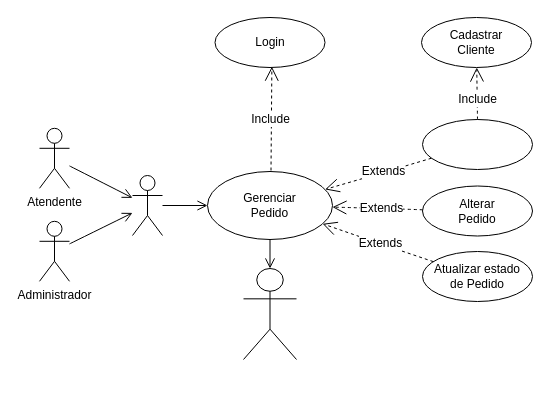
Image size: 550x398. Some labels were removed from this diagram. The centre of each missing label's shape, as x and y in pixels:
"Cadastrar Pedido" goes at (477,144).
"SGBD" goes at (269,314).
"Usuário" goes at (147,205).
